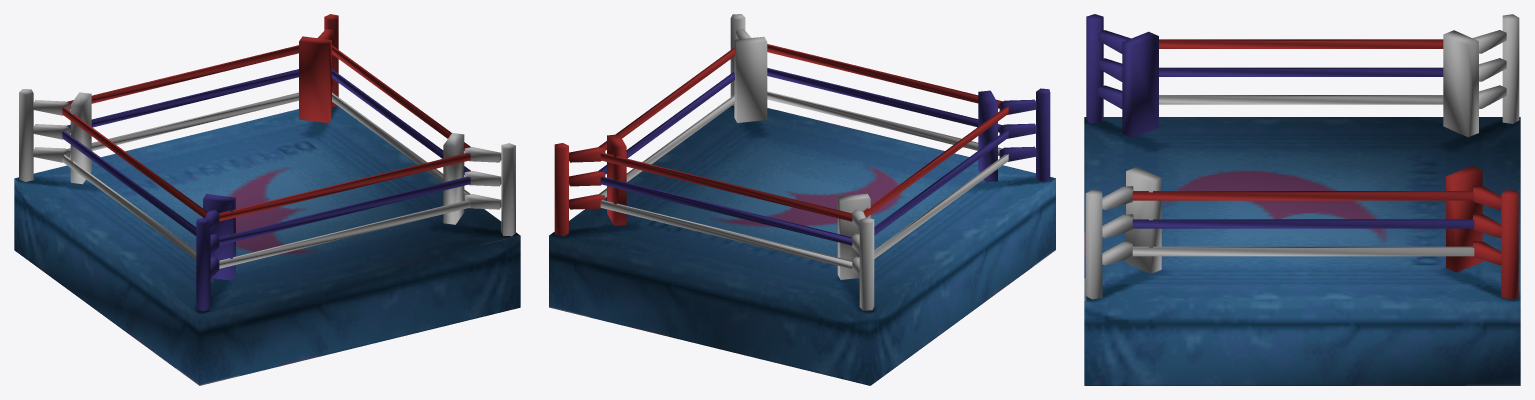
File: mc_ico00.ico.obj
The picture shows the model from 3 angles, left to right: view 1: azimuth 30°, elevation 25°; view 2: azimuth 150°, elevation 25°; view 3: azimuth 270°, elevation 25°; orthographic projection. The views are drawn at different scales.
Size of the model in its own units: 4.12 by 1.96 by 4.12.
Materials: 1 (1 with a texture image).
